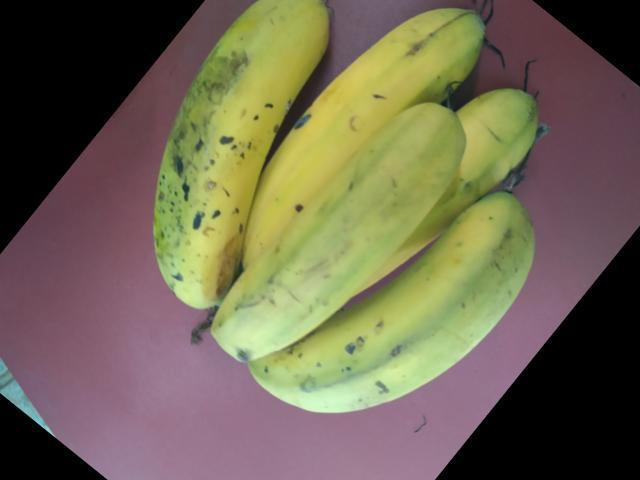ripe: (214, 90, 463, 371), (289, 206, 563, 442), (134, 19, 324, 318), (277, 13, 496, 213)
